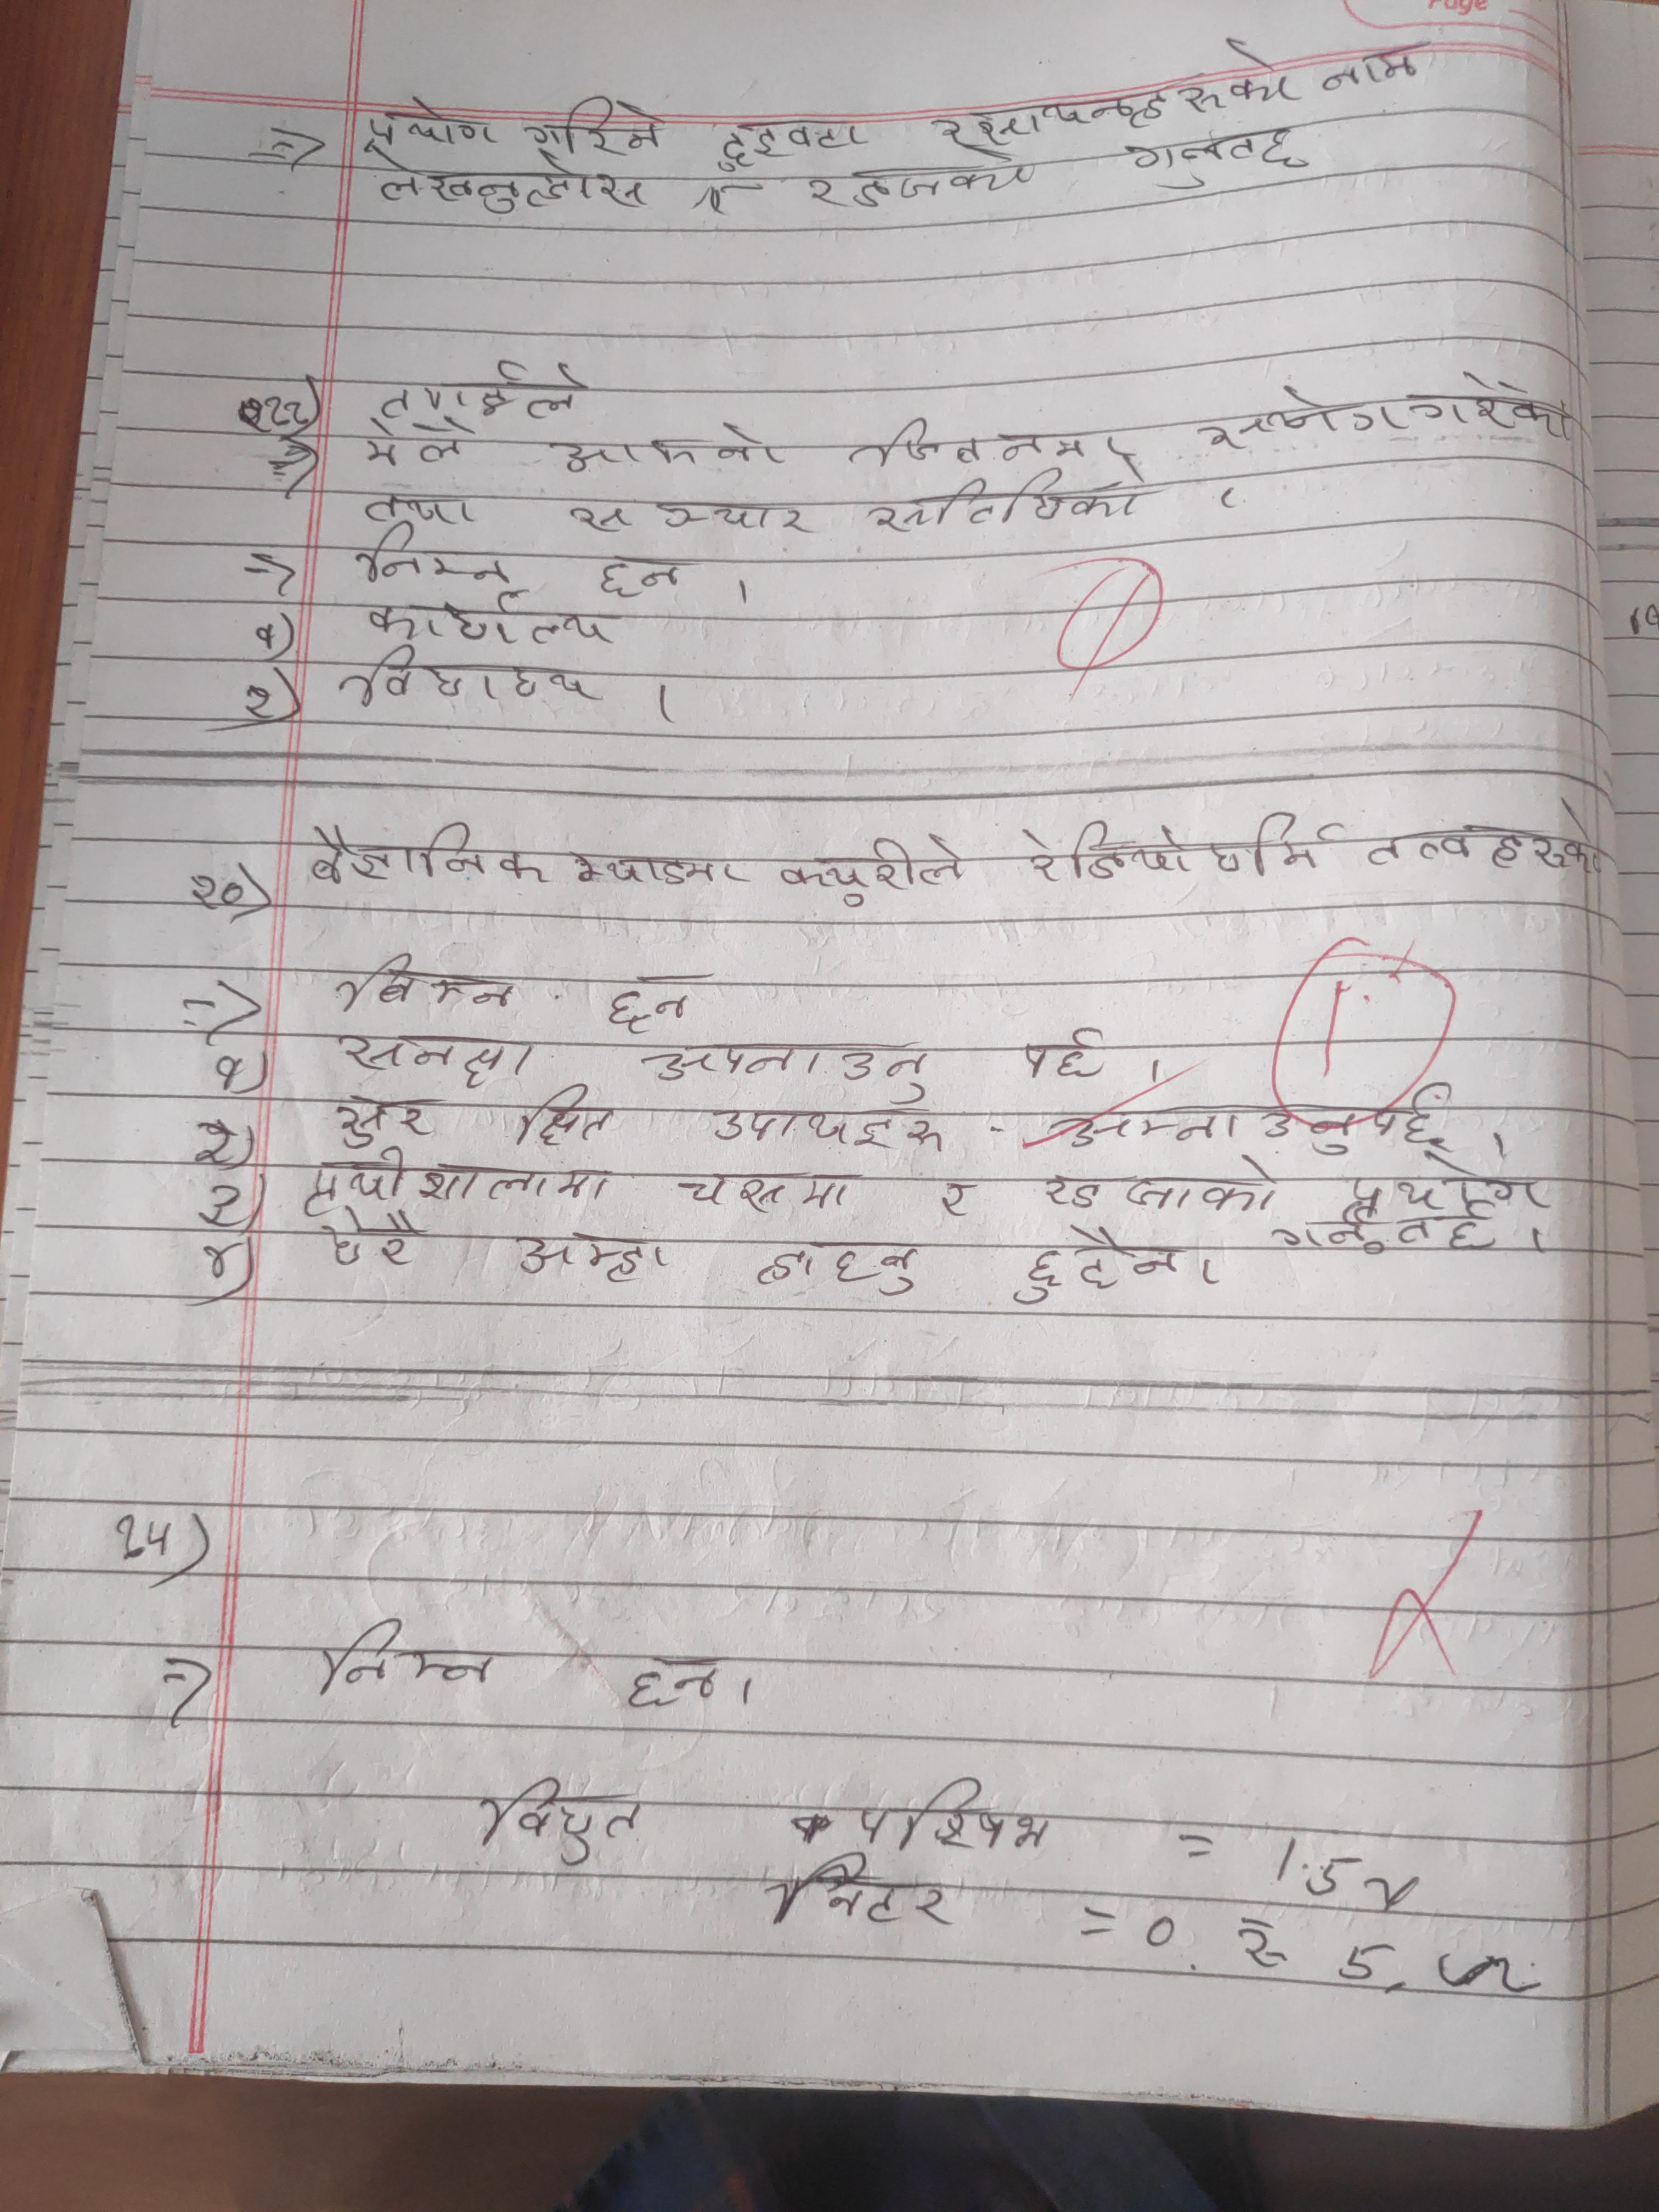text: (927, 40, 1304, 143), (1054, 1089, 1453, 1155), (1016, 808, 1345, 885), (303, 1143, 615, 1214), (1364, 792, 1605, 883), (366, 145, 650, 218), (645, 1036, 931, 1106), (343, 644, 613, 718), (308, 819, 551, 894), (864, 469, 1145, 531), (477, 1768, 645, 1867), (861, 1775, 1054, 1857), (769, 1848, 951, 1933), (315, 1616, 502, 1698), (551, 420, 784, 484), (1014, 1219, 1188, 1305), (364, 596, 622, 653), (850, 416, 1133, 469), (380, 352, 586, 421), (775, 833, 969, 906), (1042, 1157, 1279, 1216), (795, 152, 1037, 209), (331, 949, 519, 1022), (711, 1096, 945, 1153), (333, 1024, 533, 1090), (1197, 390, 1408, 451), (566, 489, 812, 542), (1413, 369, 1570, 449), (1342, 1151, 1546, 1211), (1124, 127, 1309, 190), (354, 521, 509, 594), (751, 1240, 918, 1299), (676, 1163, 857, 1214), (570, 845, 748, 895), (521, 98, 667, 157), (514, 1228, 671, 1280), (716, 120, 868, 171), (362, 98, 498, 152), (512, 1085, 613, 1148), (605, 968, 697, 1036), (321, 1209, 423, 1270), (329, 1089, 429, 1150), (1319, 42, 1432, 92), (1014, 1026, 1114, 1083), (357, 420, 469, 470), (627, 1653, 723, 1710), (354, 484, 481, 526), (591, 552, 699, 599), (931, 1177, 978, 1219)
